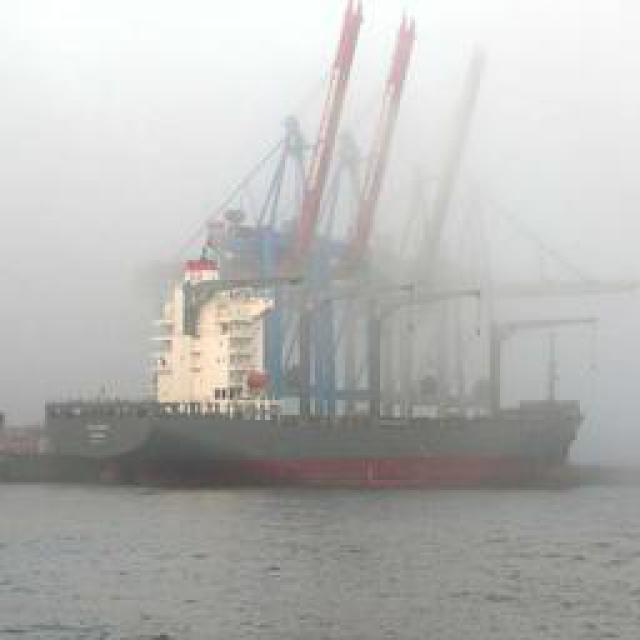Ship: (44, 46, 607, 481)
